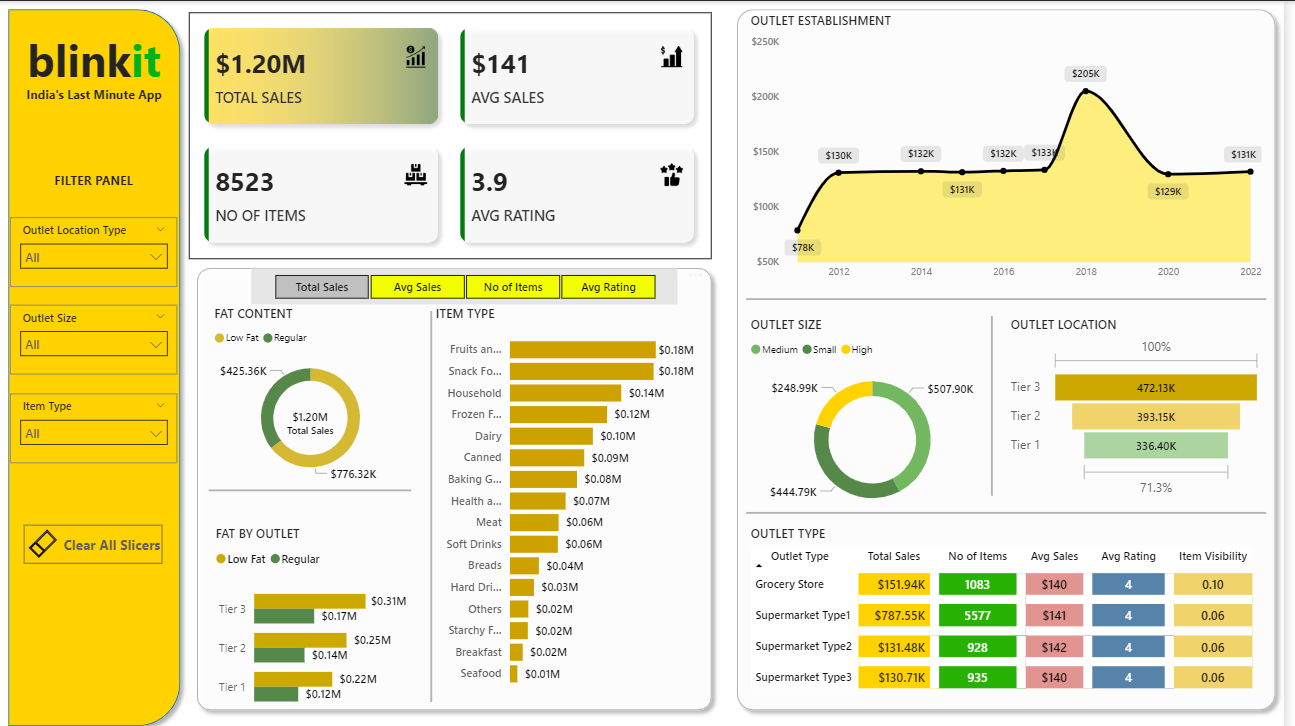

Layout of this report page (visuals, bound fields, positions):
{"tool":"powerbi","page":{"name":"Page 1","canvas":[1400,800],"ordinal":0},"visuals":[{"type":"shape","box":[0,0,205.6,800],"z":0},{"type":"textbox","box":[22.5,25.5,159.1,93.1],"z":1000},{"type":"textbox","box":[0,87.1,205.6,31.5],"z":2000},{"type":"cardVisual","fields":{"Data":["BlinkIT Grocery Data.Total Sales","BlinkIT Grocery Data.Avg Sales","BlinkIT Grocery Data.No of Items","BlinkIT Grocery Data.Avg Rating"]},"box":[205.9,12.3,569.9,269.9],"z":3000},{"type":"shape","box":[205.9,282.2,579.4,500.3],"z":4000},{"type":"donutChart","title":"FAT CONTENT","fields":{"Y":["BlinkIT Grocery Data.Total Sales"],"Category":["BlinkIT Grocery Data.Item Fat Content"]},"box":[229,331.3,219.5,201.8],"z":5000},{"type":"slicer","fields":{"Values":["Metrics.Metrics"]},"box":[274,291.8,464.9,39.5],"z":6000},{"type":"cardVisual","fields":{"Data":["BlinkIT Grocery Data.Total Sales"]},"box":[295.8,428.1,85.9,57.3],"z":7000},{"type":"clusteredBarChart","title":"FAT BY OUTLET","fields":{"Y":["BlinkIT Grocery Data.Total Sales"],"Category":["BlinkIT Grocery Data.Outlet Location Type"],"Series":["BlinkIT Grocery Data.Item Fat Content"]},"box":[230.4,571.2,218.1,216.8],"z":8000},{"type":"shape","box":[227.7,515.3,220.9,36.8],"z":9000},{"type":"shape","box":[458.1,338.1,24.5,426.7],"z":10000},{"type":"barChart","title":"ITEM TYPE","fields":{"Y":["BlinkIT Grocery Data.Total Sales"],"Category":["BlinkIT Grocery Data.Item Type"]},"box":[470.4,331.3,291.8,426.7],"z":11000},{"type":"shape","box":[794.8,0,605.3,782.6],"z":12000},{"type":"lineChart","title":"OUTLET ESTABLISHMENT","fields":{"Y":["BlinkIT Grocery Data.Total Sales"],"Category":["BlinkIT Grocery Data.Outlet Establishment Year"]},"box":[813.9,12.3,567.1,299.9],"z":13000},{"type":"shape","box":[813.9,306.8,567.1,36.8],"z":14000},{"type":"donutChart","title":"OUTLET SIZE","fields":{"Category":["BlinkIT Grocery Data.Outlet Size"],"Y":["BlinkIT Grocery Data.Total Sales"]},"box":[813.9,343.6,275.4,225],"z":15000},{"type":"shape","box":[1074.3,343.6,15,196.3],"z":16000},{"type":"funnel","title":"OUTLET LOCATION","fields":{"Y":["Sum(BlinkIT Grocery Data.Sales)"],"Category":["BlinkIT Grocery Data.Outlet Location Type"]},"box":[1097.5,343.6,283.6,201.8],"z":17000},{"type":"shape","box":[813.9,539.9,567.1,36.8],"z":18000},{"type":"pivotTable","title":"OUTLET TYPE","fields":{"Rows":["BlinkIT Grocery Data.Outlet Type"],"Values":["BlinkIT Grocery Data.Total Sales","BlinkIT Grocery Data.No of Items","BlinkIT Grocery Data.Avg Sales","BlinkIT Grocery Data.Avg Rating","Avg(BlinkIT Grocery Data.Item Visibility)"]},"box":[813.9,571.2,567.1,195],"z":19000},{"type":"slicer","fields":{"Values":["BlinkIT Grocery Data.Outlet Location Type"]},"box":[10.9,235.9,182.7,76.3],"z":20000},{"type":"slicer","fields":{"Values":["BlinkIT Grocery Data.Outlet Size"]},"box":[10.9,331.3,182.7,76.3],"z":21000},{"type":"slicer","fields":{"Values":["BlinkIT Grocery Data.Item Type"]},"box":[10.9,428.1,182.7,76.3],"z":22000},{"type":"textbox","box":[10.9,181.3,182.7,43.6],"z":24000},{"type":"actionButton","box":[25.9,571.2,151.3,42.3],"z":24001}]}

Visuals, with their boxes in screenshot pixels (x1, y1, x2, y2), scaled from the page's 1400x800 canvas onto the 1295x726 screenshot:
shape: x1=0, y1=0, x2=190, y2=725
textbox: x1=21, y1=23, x2=168, y2=108
textbox: x1=0, y1=79, x2=190, y2=108
cardVisual - BlinkIT Grocery Data.Total Sales x BlinkIT Grocery Data.Avg Sales: x1=190, y1=11, x2=718, y2=256
shape: x1=190, y1=256, x2=726, y2=710
"FAT CONTENT" donutChart: x1=212, y1=301, x2=415, y2=484
slicer - Metrics.Metrics: x1=253, y1=265, x2=683, y2=301
cardVisual - BlinkIT Grocery Data.Total Sales: x1=274, y1=389, x2=353, y2=441
"FAT BY OUTLET" clusteredBarChart: x1=213, y1=518, x2=415, y2=715
shape: x1=211, y1=468, x2=415, y2=501
shape: x1=424, y1=307, x2=446, y2=694
"ITEM TYPE" barChart: x1=435, y1=301, x2=705, y2=688
shape: x1=735, y1=0, x2=1294, y2=710
"OUTLET ESTABLISHMENT" lineChart: x1=753, y1=11, x2=1277, y2=283
shape: x1=753, y1=278, x2=1277, y2=312
"OUTLET SIZE" donutChart: x1=753, y1=312, x2=1008, y2=516
shape: x1=994, y1=312, x2=1008, y2=490
"OUTLET LOCATION" funnel: x1=1015, y1=312, x2=1278, y2=495
shape: x1=753, y1=490, x2=1277, y2=523
"OUTLET TYPE" pivotTable: x1=753, y1=518, x2=1277, y2=695
slicer - BlinkIT Grocery Data.Outlet Location Type: x1=10, y1=214, x2=179, y2=283
slicer - BlinkIT Grocery Data.Outlet Size: x1=10, y1=301, x2=179, y2=370
slicer - BlinkIT Grocery Data.Item Type: x1=10, y1=389, x2=179, y2=458
textbox: x1=10, y1=165, x2=179, y2=204
actionButton: x1=24, y1=518, x2=164, y2=557
